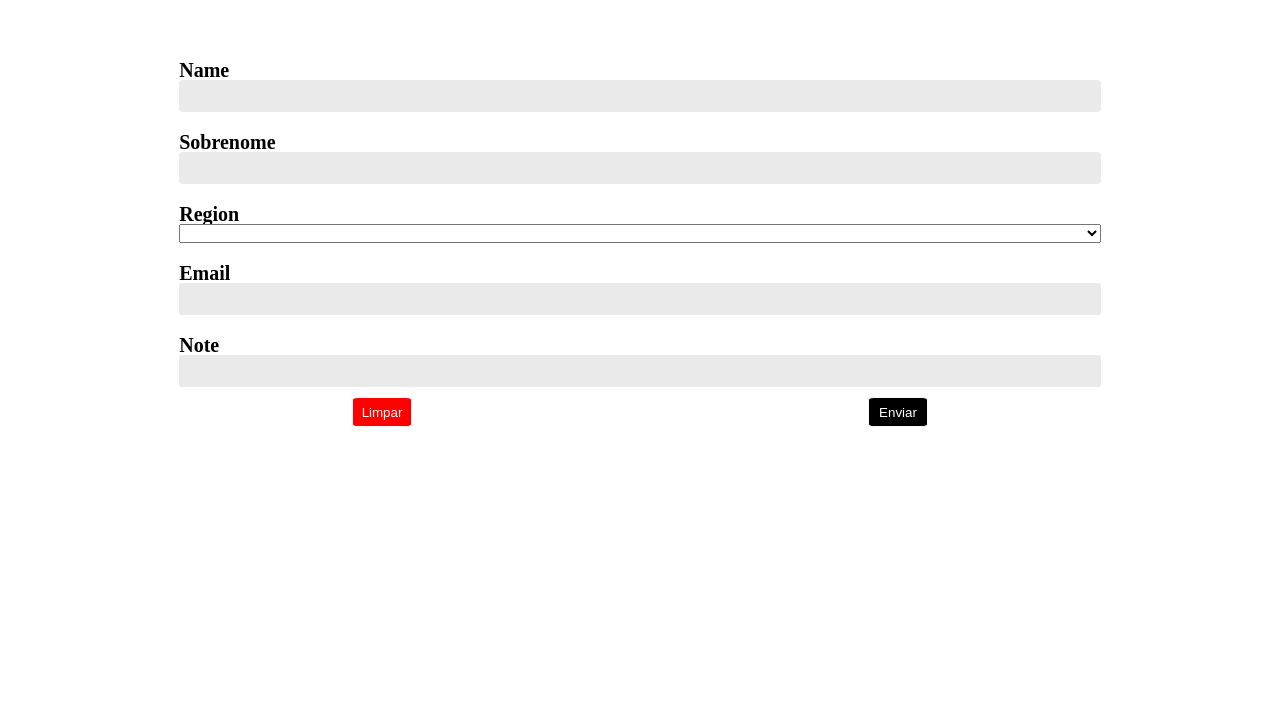
Test: Forms › should click on send button and open data modal
Click the button "Enviar".
click(898, 412)  # box [868,397,928,427]
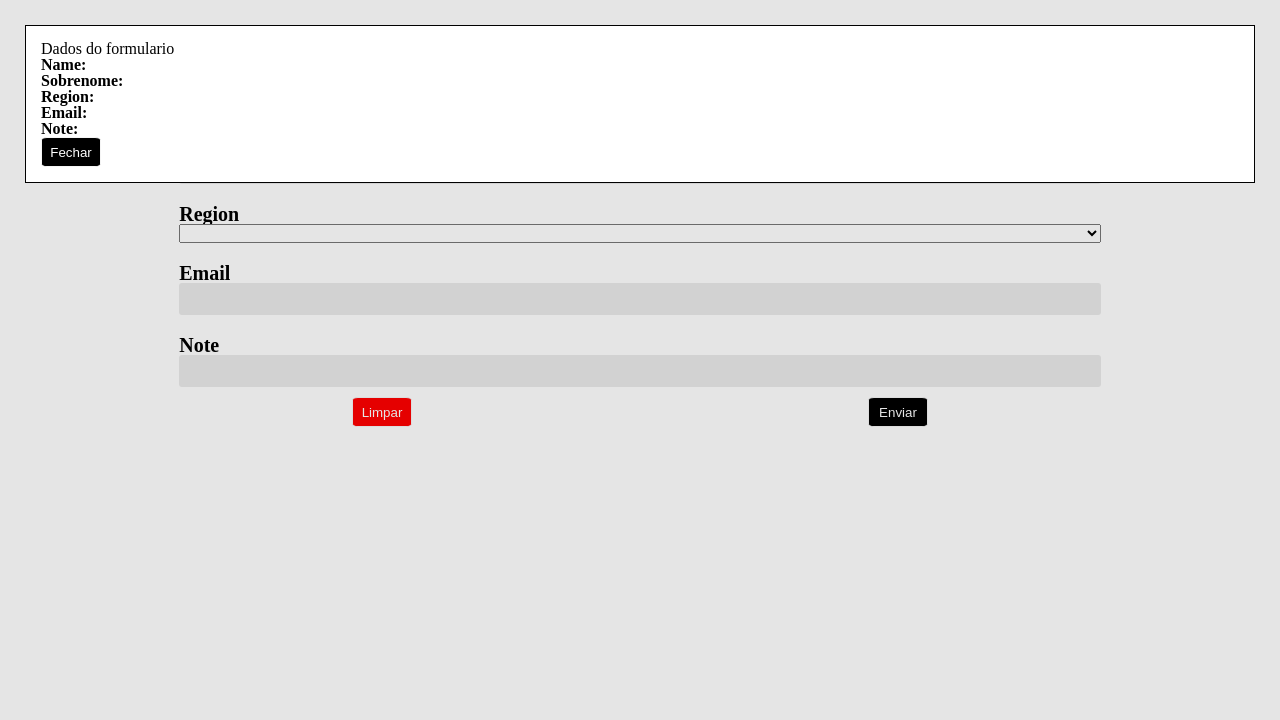
Expected: the element with test id "data-modal" is shown
